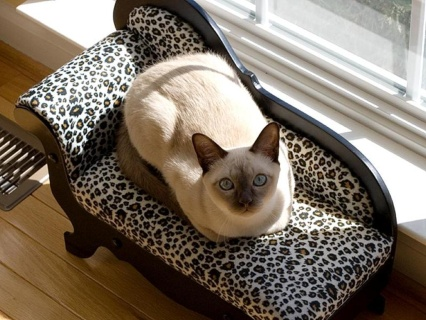Cat: (115, 48, 296, 245)
